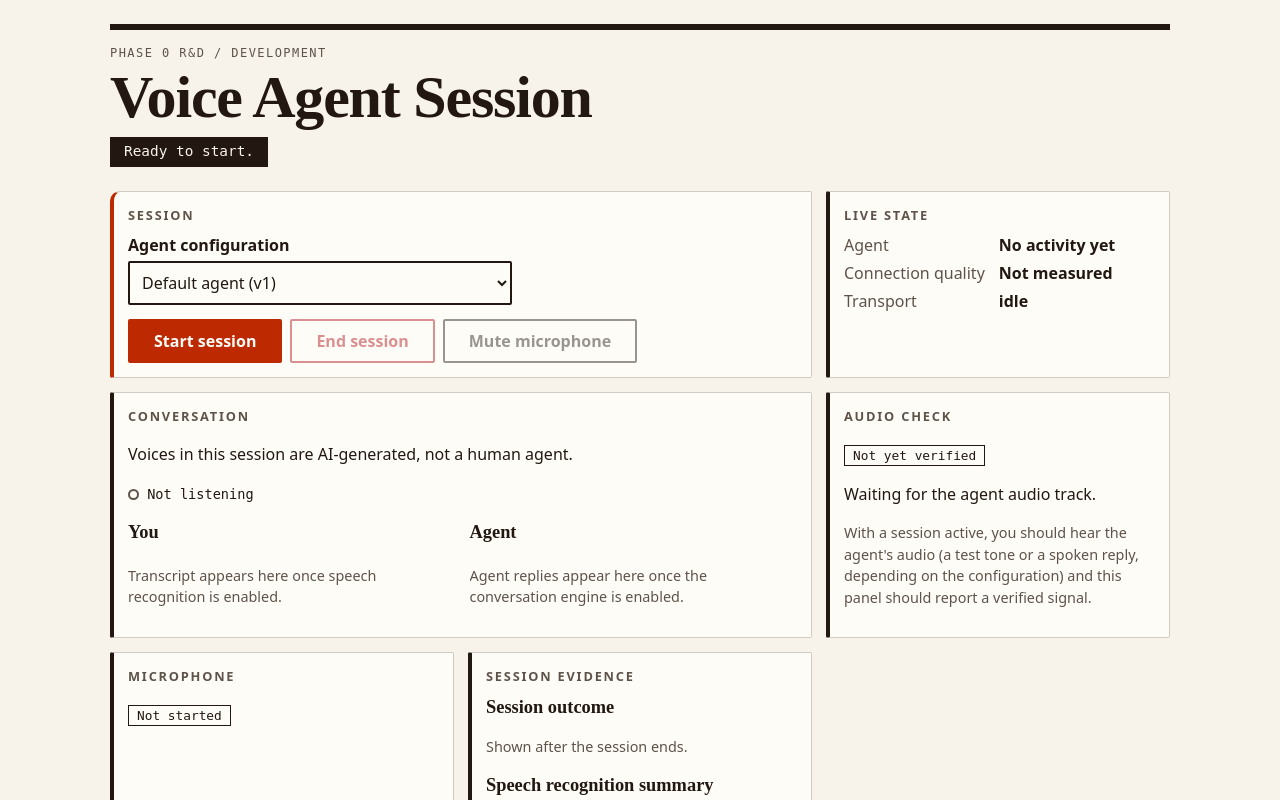
Test: SessionScreen accessibility and states › starts a session and shows live state, configuration labels and mic constraints
The image size is (1280, 800).
Click the button "Start session".
click(205, 341)  # box top-left (128, 319), bottom-right (282, 363)
(page scrolled)
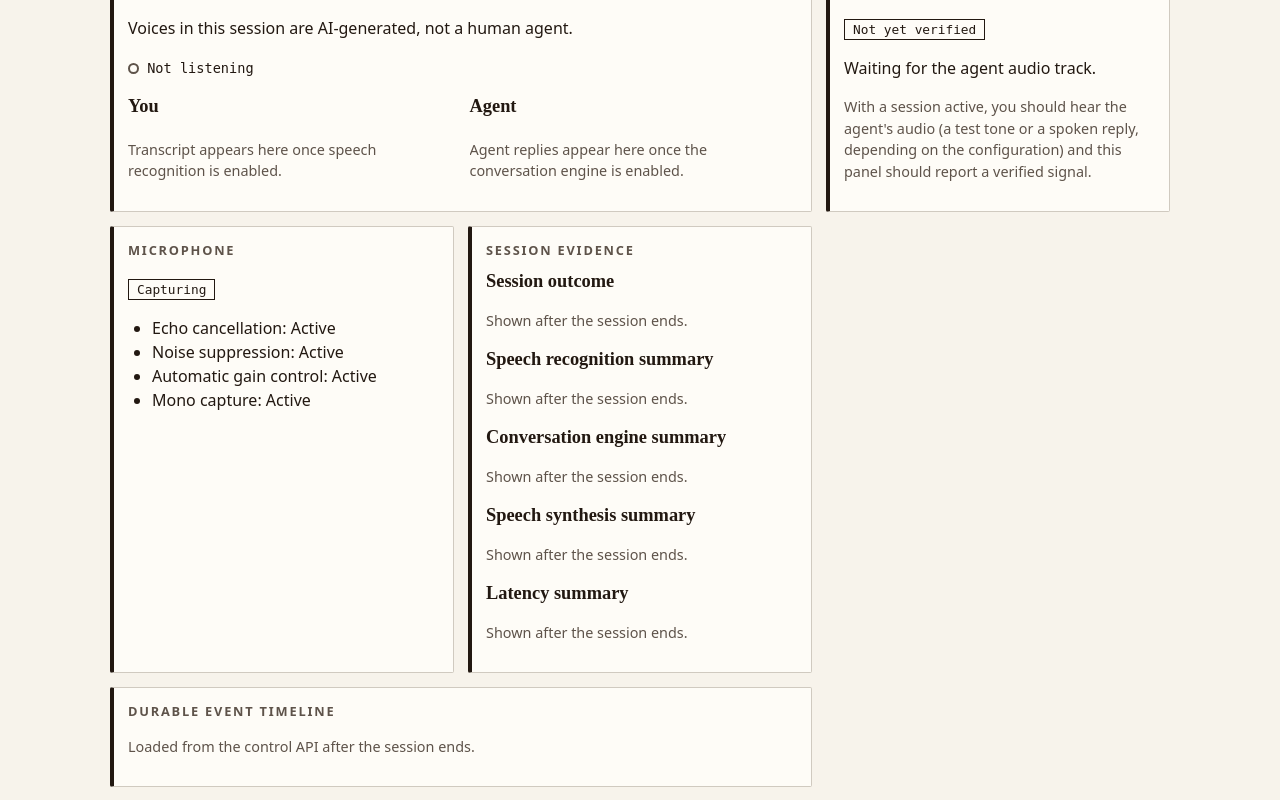
Expected: the list item "Echo cancellation: Active" is shown, top-left (152, 317), bottom-right (336, 339)
Expected: the list item "Mono capture: Active" is shown, top-left (152, 389), bottom-right (311, 411)
